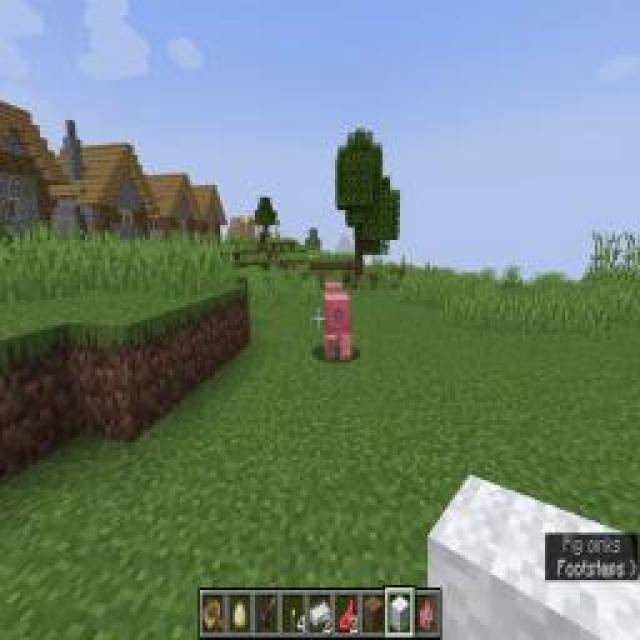Pig: (323, 280, 355, 365)
